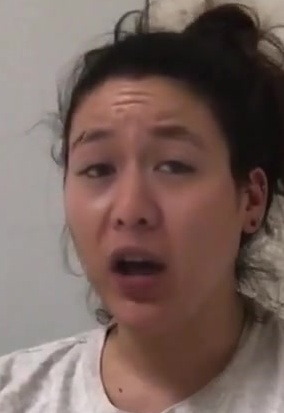eb_f: (71, 122, 206, 188)
